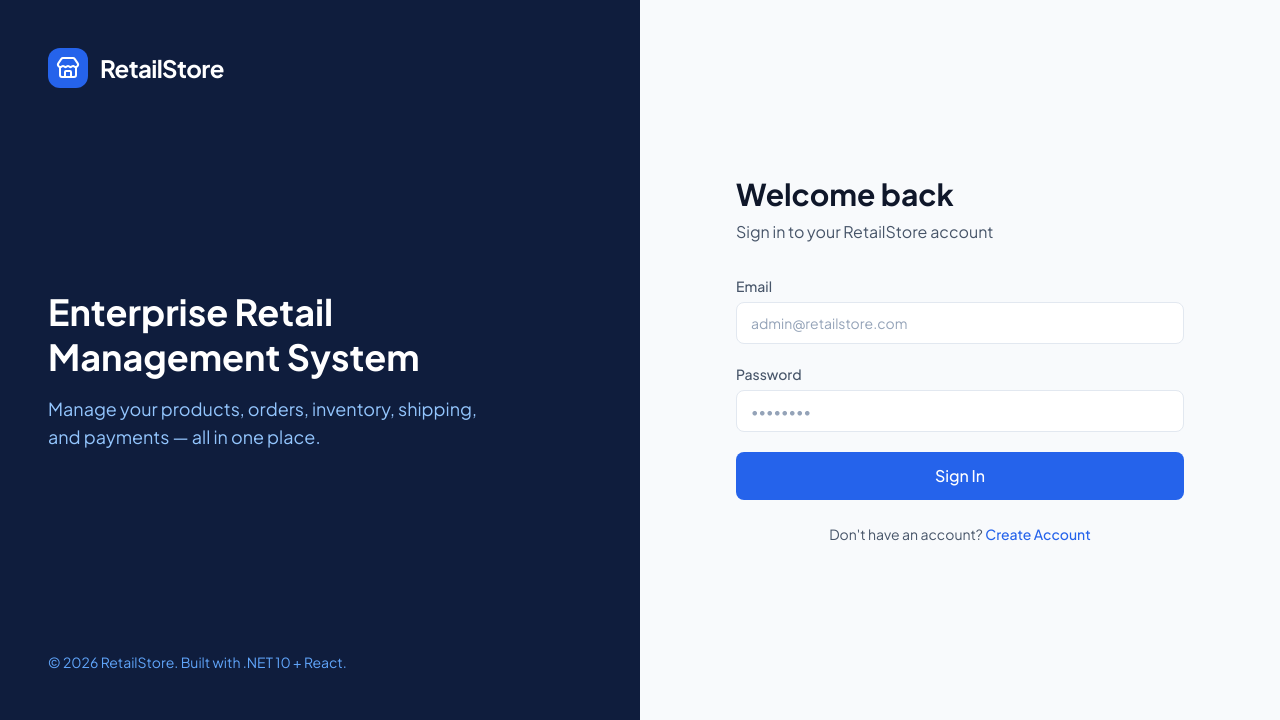
Test: Login workflow › wrong credentials show an error alert with the API error message
Type "testuser@example.com" into the field at (960, 323), box [736,302,1184,344]
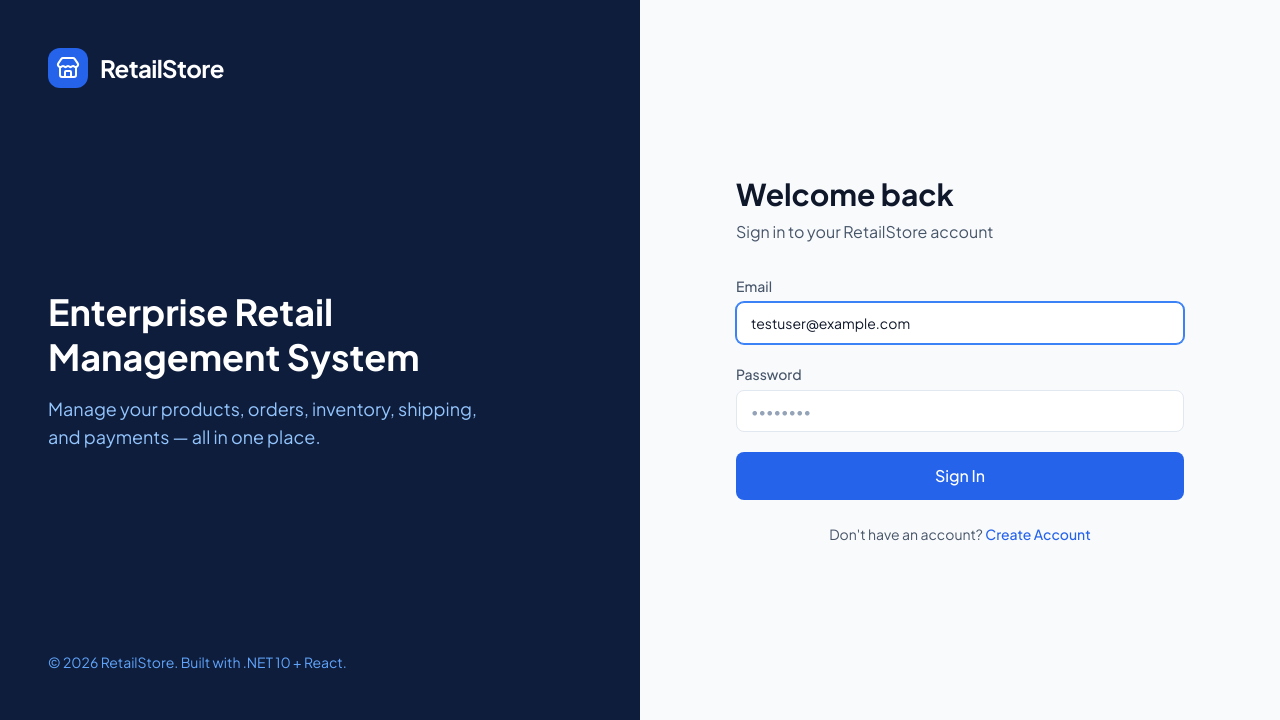
Type "wrong-password" into the password field labelled "Password" at (960, 411), box [736,390,1184,432]
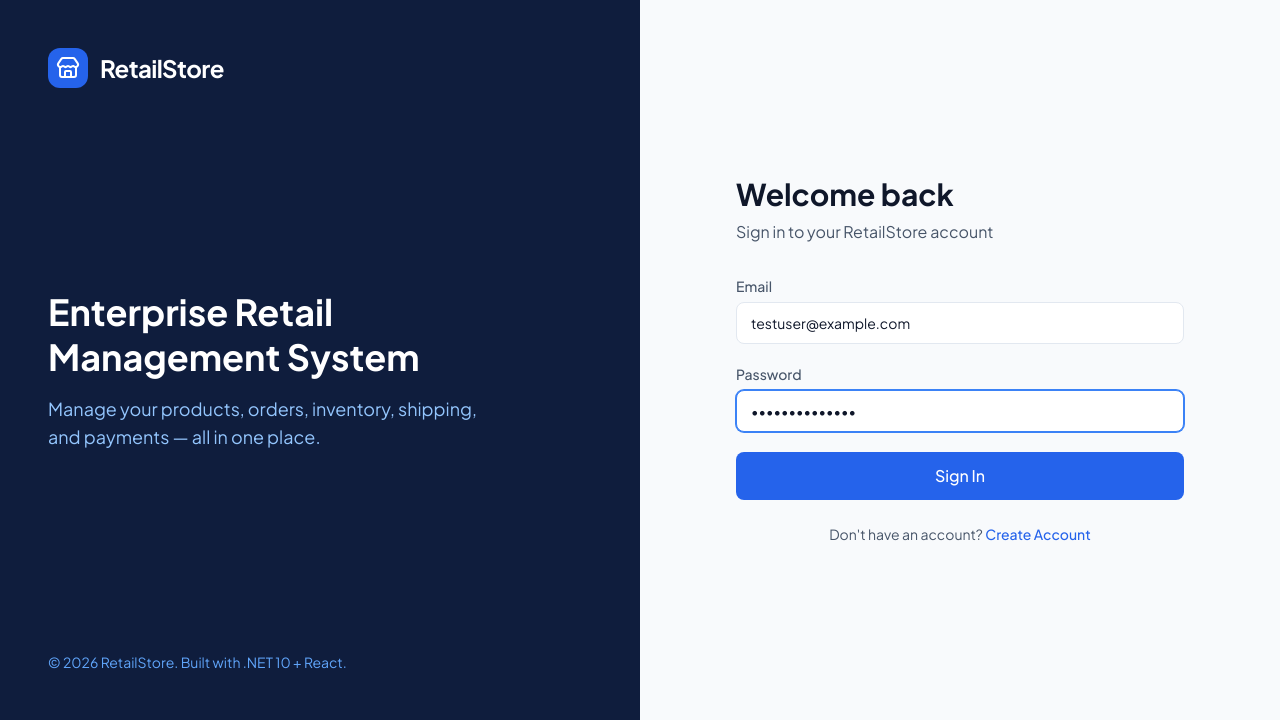
Click the button "Sign In" at (960, 476), box [736,452,1184,500]
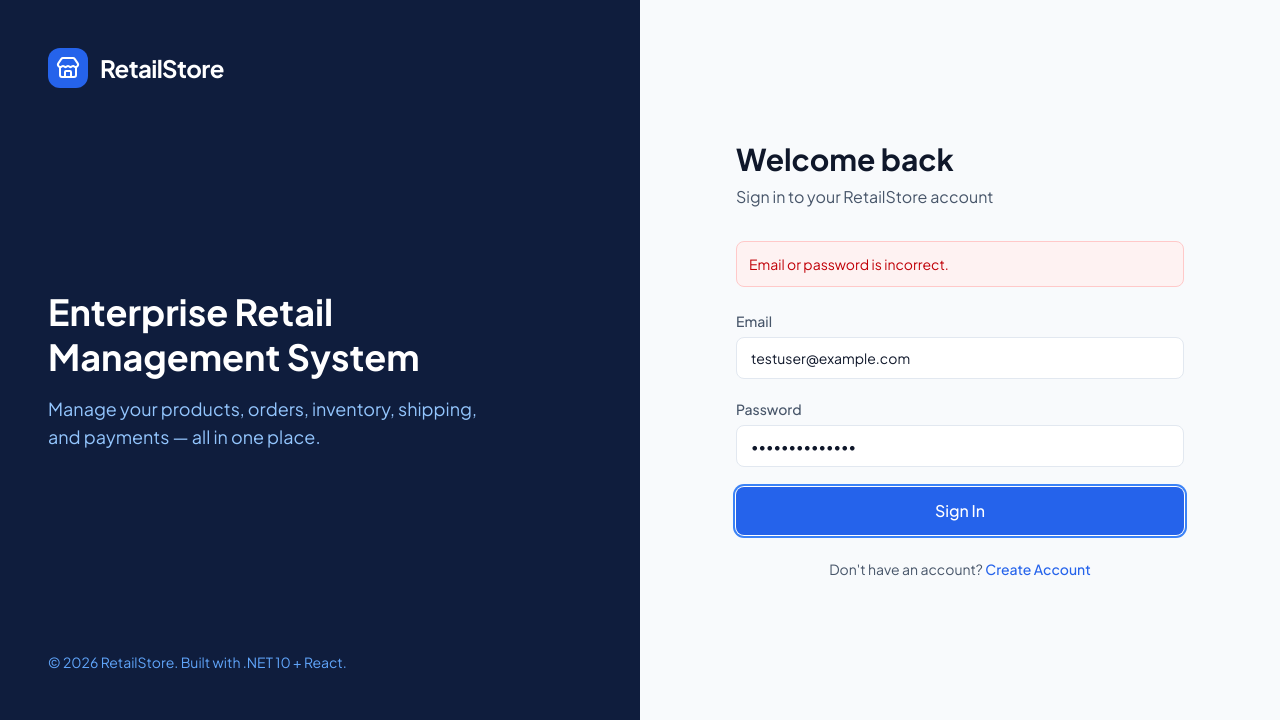
expect the text "Email or password is incorrect." is shown: met, box [749,255,949,273]
